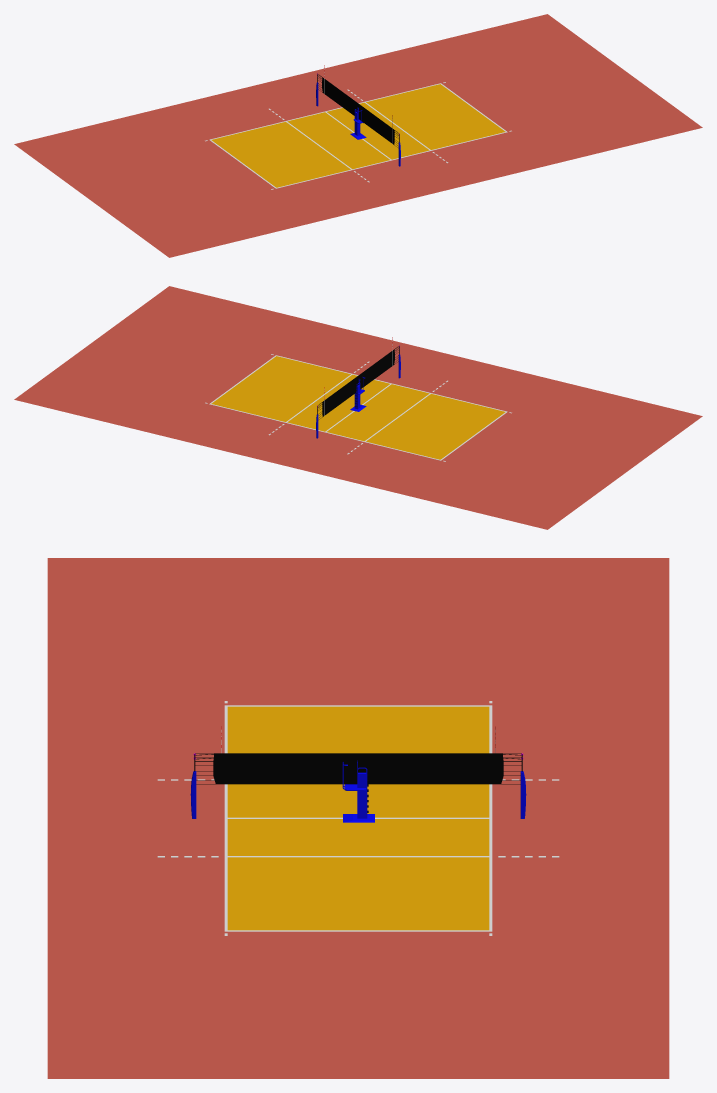
The model's file is Volleyball.fbx.
The picture shows the model from 3 angles, top to bottom: view 1: azimuth 30°, elevation 25°; view 2: azimuth 150°, elevation 25°; view 3: azimuth 270°, elevation 25°; orthographic projection. The views are drawn at different scales.
Visible parts, largest first — view 1: VolleyballCourt, WomansVolleyballNet, MensVolleyballNet; view 2: VolleyballCourt, WomansVolleyballNet, MensVolleyballNet; view 3: VolleyballCourt, WomansVolleyballNet, MensVolleyballNet, UmpireBox.
Part boxes in pixels (box(x1,y1,x2,y2)): VolleyballCourt: box(14, 14, 702, 257); WomansVolleyballNet: box(316, 67, 400, 166); MensVolleyballNet: box(317, 65, 399, 145); VolleyballCourt: box(14, 286, 702, 529); WomansVolleyballNet: box(316, 339, 400, 438); MensVolleyballNet: box(317, 337, 399, 417); VolleyballCourt: box(47, 558, 669, 1078); WomansVolleyballNet: box(190, 736, 526, 818); MensVolleyballNet: box(193, 726, 523, 780); UmpireBox: box(342, 760, 374, 822).
Bounding box in the file's own units: 4142 × 341 × 2088.
